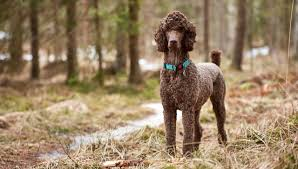Bulldog: (145, 14, 248, 156)
